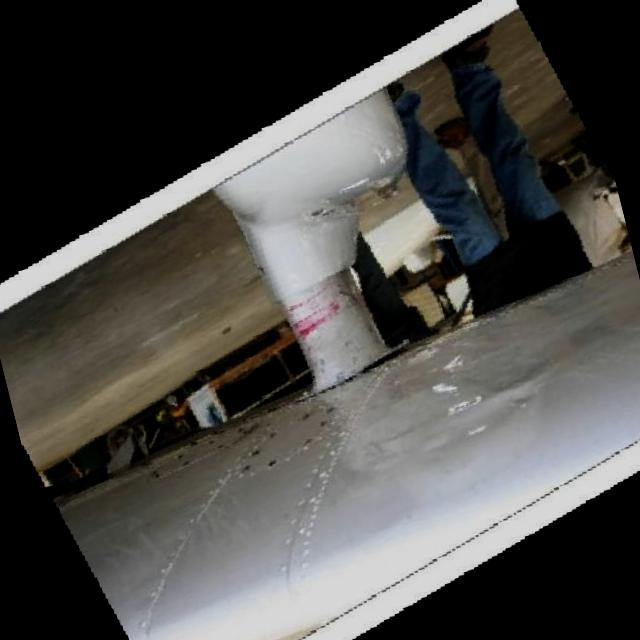dent: (434, 389, 494, 429)
